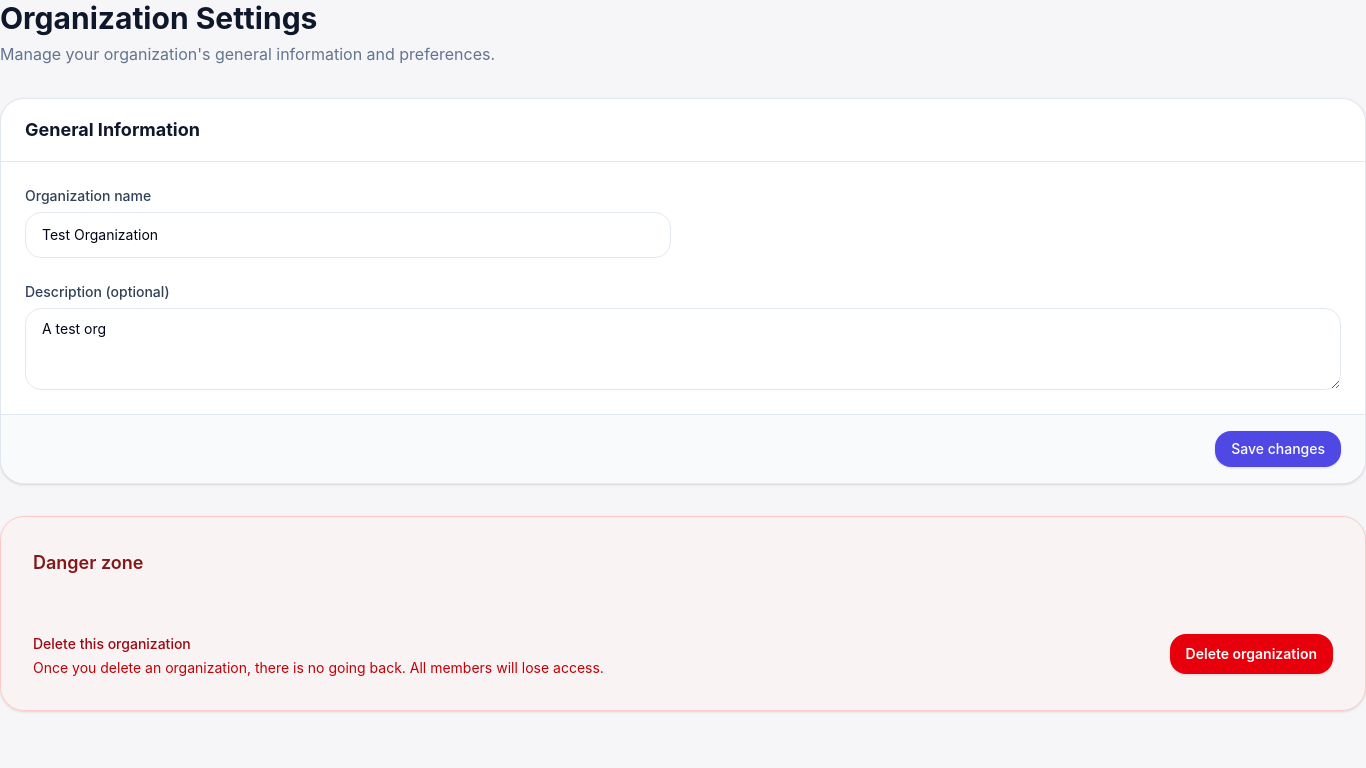
Test case: OrgSettingsForm › shows error toast on failure
Click the button "Save changes" at (1278, 449), box [1215, 431, 1341, 467]
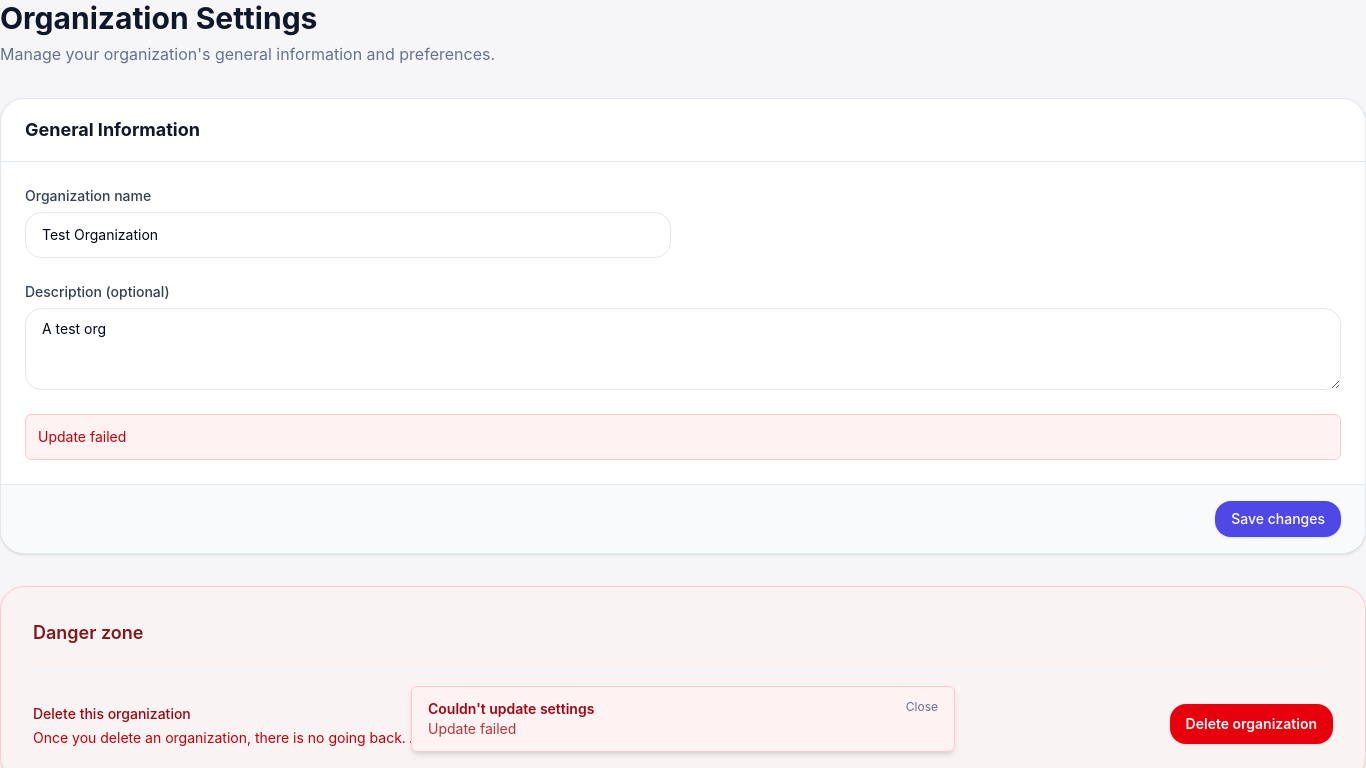
Expected: the text "Couldn't update settings" is shown, [428, 700, 594, 717]
